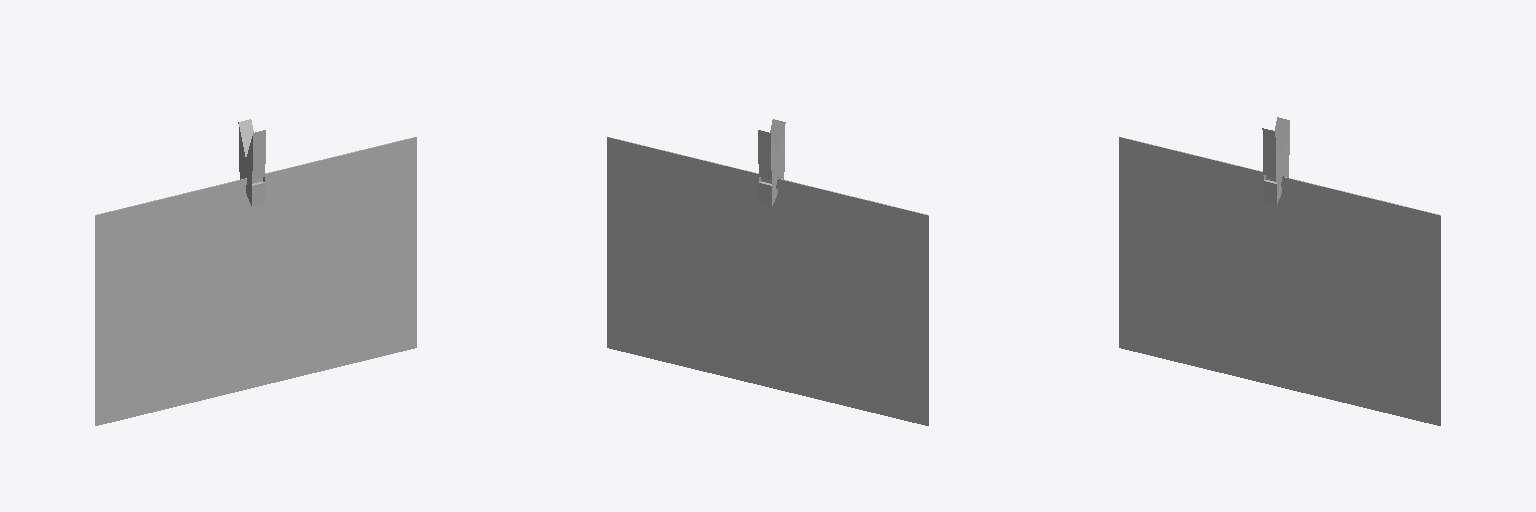
The model's file is Clip_wPhoto_1.obj.
3 renders of one model, left to right at view 1: azimuth 30°, elevation 25°; view 2: azimuth 150°, elevation 25°; view 3: azimuth 330°, elevation 25°, orthographic.
Visible parts, largest first — view 1: pCube2, Wooden_Clip:Wooden_Clip; view 2: pCube2, Wooden_Clip:Wooden_Clip; view 3: pCube2, Wooden_Clip:Wooden_Clip.
Boxes of the visible parts, x1=… form: pCube2: x1=95, y1=137, x2=416, y2=425; Wooden_Clip:Wooden_Clip: x1=238, y1=119, x2=265, y2=206; pCube2: x1=607, y1=137, x2=928, y2=425; Wooden_Clip:Wooden_Clip: x1=758, y1=119, x2=785, y2=206; pCube2: x1=1119, y1=137, x2=1440, y2=425; Wooden_Clip:Wooden_Clip: x1=1262, y1=117, x2=1289, y2=204.
Bounding box in the file's own units: 95.04 × 73.82 × 7.6.